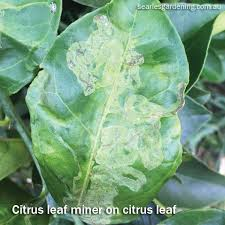Diseased_Leaves: (101, 100, 160, 189), (73, 29, 146, 93), (29, 59, 70, 134), (85, 194, 114, 218)
